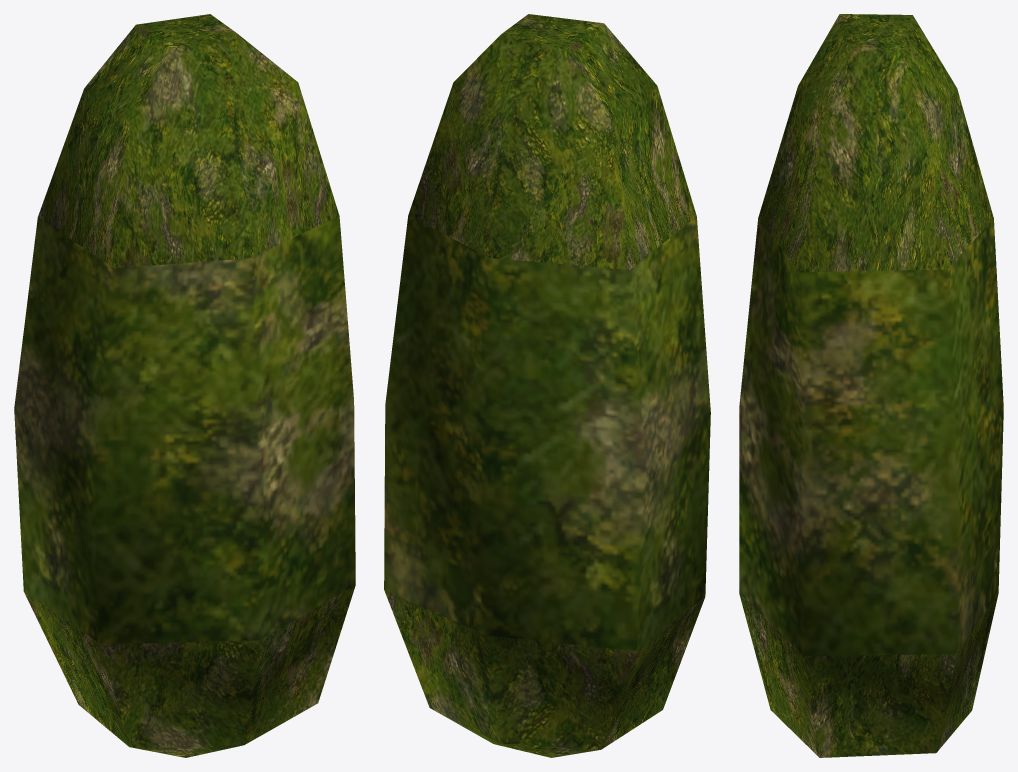
File: OVERHILL_A_01_ROCK_BRIDGE06.fbx
3 views of the same model, side by side, from view 1: azimuth 30°, elevation 25°; view 2: azimuth 150°, elevation 25°; view 3: azimuth 270°, elevation 25° (orthographic).
Visible parts, largest first — view 1: OVERHILL_A_01_ROCK_BRIDGE06; view 2: OVERHILL_A_01_ROCK_BRIDGE06; view 3: OVERHILL_A_01_ROCK_BRIDGE06.
Boxes of the visible parts, box(x1,y1,x2,y2) form: OVERHILL_A_01_ROCK_BRIDGE06: box(14, 14, 355, 757); OVERHILL_A_01_ROCK_BRIDGE06: box(384, 14, 710, 757); OVERHILL_A_01_ROCK_BRIDGE06: box(739, 14, 1003, 757).
Size of the model in its own units: 8960 by 22829 by 7758.
1 material, 1 textured.
